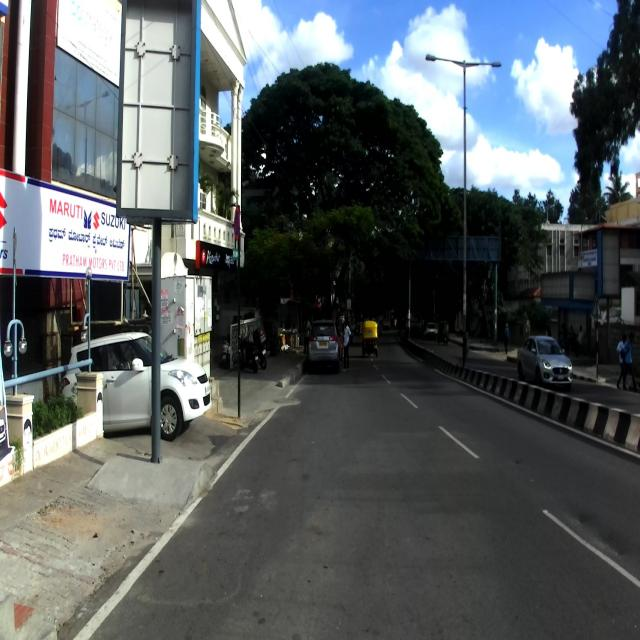Car_Maruti-Suzuki: (57, 331, 212, 442), (516, 332, 576, 382)
Car_Toyota: (306, 317, 340, 368)
